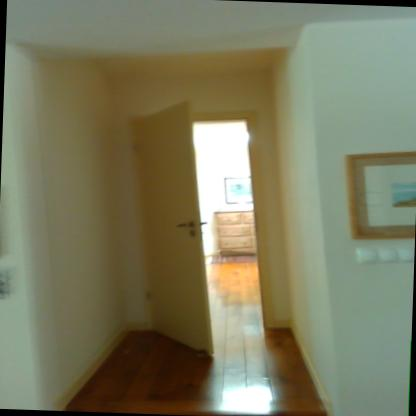semi: (118, 86, 302, 388)
